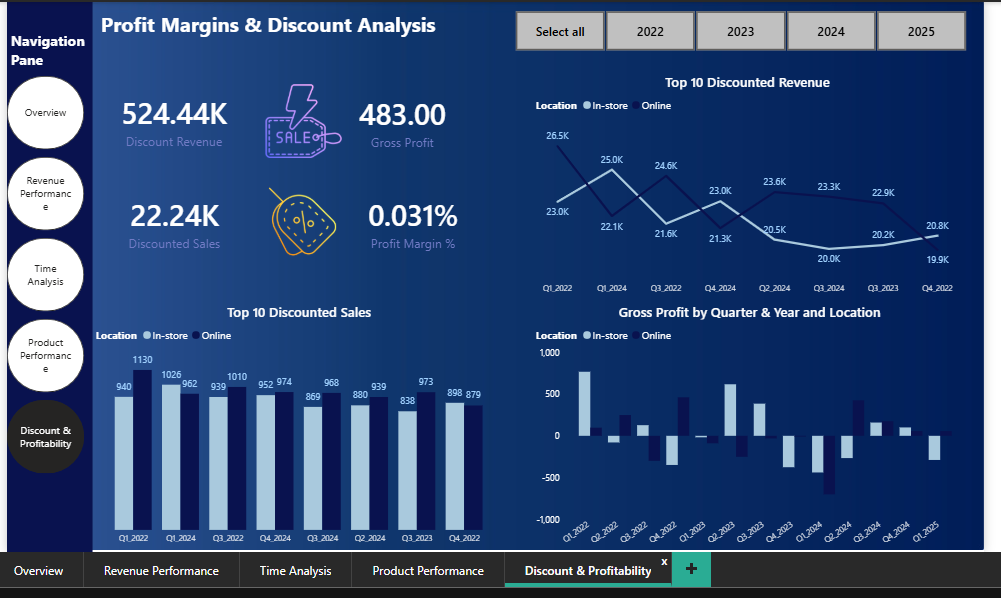

What the dashboard file says about the page in this screenshot:
{"tool":"powerbi","page":{"name":"Discount & Profitability","canvas":[1280,720],"ordinal":4},"visuals":[{"type":"textbox","box":[0,0,111.9,720.4],"z":0,"group":"g1"},{"type":"card","fields":{"Values":["clean_retail_sales.Discount Revenue"]},"box":[116.8,109.2,204.2,92.6],"z":0},{"type":"pageNavigator","box":[0,97,101.4,524.6],"z":1000,"group":"g1"},{"type":"card","fields":{"Values":["clean_retail_sales.Discounted Sales"]},"box":[118.3,242.9,202.8,91.1],"z":1000},{"type":"textbox","box":[0,32.3,142.5,64.7],"z":2000,"group":"g1"},{"type":"card","fields":{"Values":["clean_retail_sales.Gross Profit"]},"box":[423.2,110.7,189.6,91.1],"z":2000},{"type":"card","fields":{"Values":["clean_retail_sales.Profit Margin %"]},"box":[423.2,242.9,217.5,91.1],"z":3000},{"type":"slicer","fields":{"Values":["Dim_date.Year"]},"box":[640.7,5.9,639.2,64.7],"z":4000},{"type":"group","id":"g1","title":"Group 1","box":[0,0,142.5,720.4],"z":5000},{"type":"clusteredColumnChart","fields":{"Y":["clean_retail_sales.Gross Profit"],"Category":["Dim_date.Quarter & Year"],"Series":["clean_retail_sales.Location"]},"box":[687.7,392.3,570.1,327.7],"z":6000},{"type":"clusteredColumnChart","title":"Top 10 Discounted Sales","fields":{"Category":["Dim_date.Quarter & Year"],"Y":["clean_retail_sales.Discounted Sales"],"Series":["clean_retail_sales.Location"]},"box":[111.7,392.3,542.2,327.7],"z":7000},{"type":"lineChart","title":"Top 10 Discounted Revenue","fields":{"Category":["Dim_date.Quarter & Year"],"Y":["clean_retail_sales.Discount Revenue"],"Series":["clean_retail_sales.Location"]},"box":[687.7,91.1,564.2,301.2],"z":8000},{"type":"textbox","box":[117.6,5.9,476.1,64.7],"z":9000},{"type":"image","box":[320.3,98.9,135.2,113.1],"z":10000},{"type":"image","box":[336.5,237,101.4,101.4],"z":11000}]}

Visuals, with their boxes on the page's 1280x720 design canvas (x1, y1, x2, y2). These are canvas units, not pixel positions in the 1001x598 screenshot, which may show the page scaled, cropped or inside an application window:
textbox: pyautogui.locateOnScreen(0, 0, 112, 720)
card - clean_retail_sales.Discount Revenue: pyautogui.locateOnScreen(117, 109, 321, 202)
pageNavigator: pyautogui.locateOnScreen(0, 97, 101, 622)
card - clean_retail_sales.Discounted Sales: pyautogui.locateOnScreen(118, 243, 321, 334)
textbox: pyautogui.locateOnScreen(0, 32, 142, 97)
card - clean_retail_sales.Gross Profit: pyautogui.locateOnScreen(423, 111, 613, 202)
card - clean_retail_sales.Profit Margin %: pyautogui.locateOnScreen(423, 243, 641, 334)
slicer - Dim_date.Year: pyautogui.locateOnScreen(641, 6, 1280, 71)
"Group 1" group: pyautogui.locateOnScreen(0, 0, 142, 720)
clusteredColumnChart - clean_retail_sales.Gross Profit x Dim_date.Quarter & Year: pyautogui.locateOnScreen(688, 392, 1258, 720)
"Top 10 Discounted Sales" clusteredColumnChart: pyautogui.locateOnScreen(112, 392, 654, 720)
"Top 10 Discounted Revenue" lineChart: pyautogui.locateOnScreen(688, 91, 1252, 392)
textbox: pyautogui.locateOnScreen(118, 6, 594, 71)
image: pyautogui.locateOnScreen(320, 99, 456, 212)
image: pyautogui.locateOnScreen(336, 237, 438, 338)
